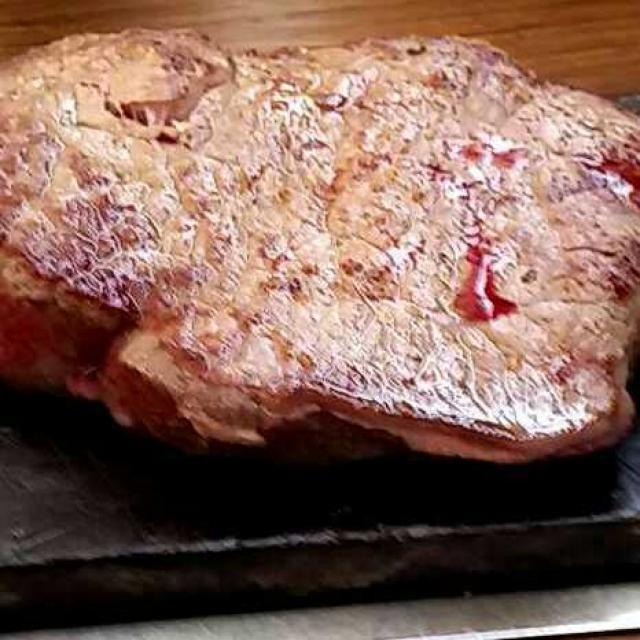beef: (8, 35, 638, 460)
